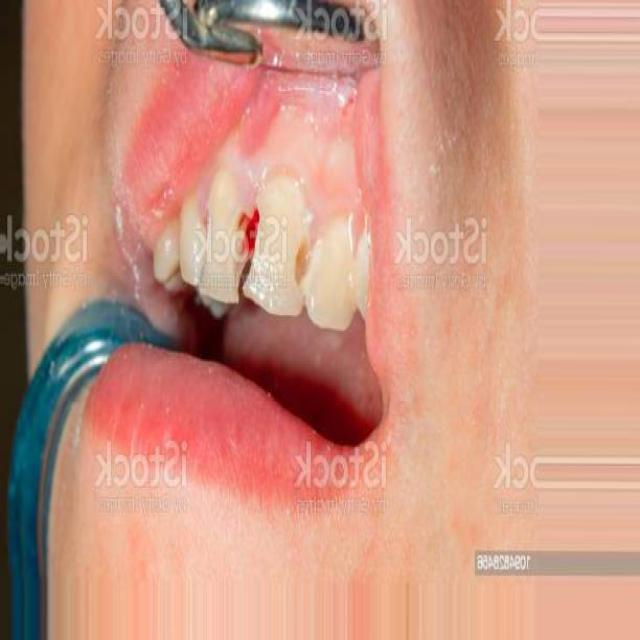caries: (226, 192, 276, 271), (286, 226, 328, 292)
